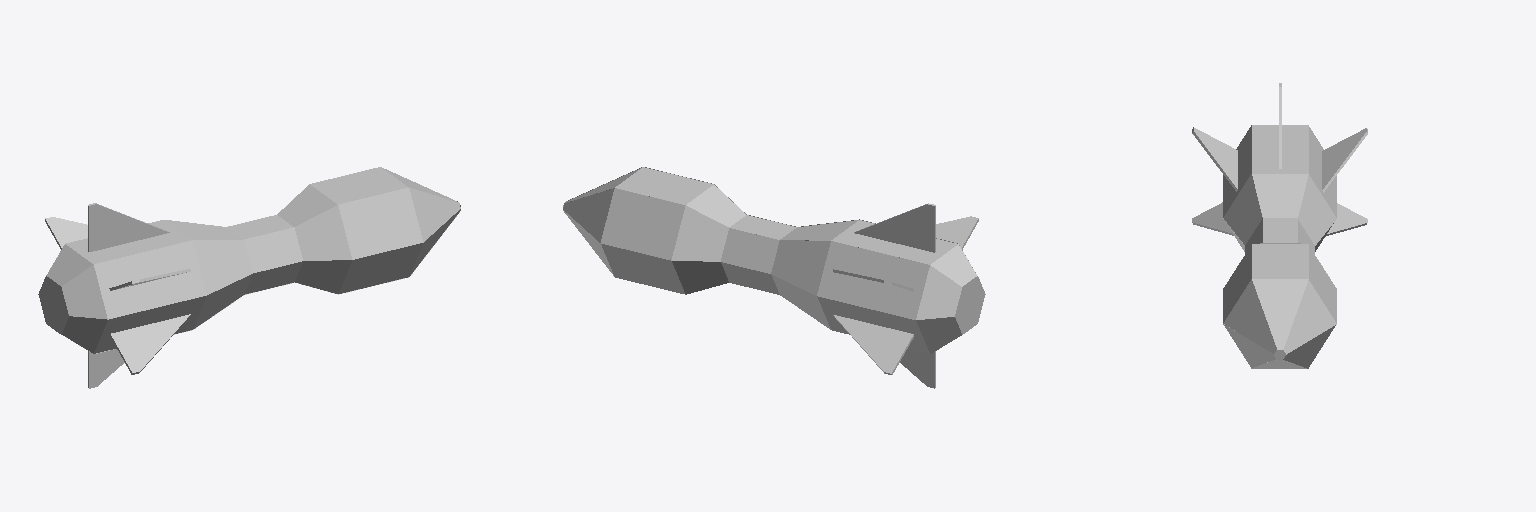
Rendered from missile.obj.
3 renders of one model, left to right at view 1: azimuth 30°, elevation 25°; view 2: azimuth 150°, elevation 25°; view 3: azimuth 270°, elevation 25°, orthographic.
Visible parts, largest first — view 1: Cylinder; view 2: Cylinder; view 3: Cylinder.
Part boxes in pixels (bbox=[...]): Cylinder: bbox=[38, 167, 460, 388]; Cylinder: bbox=[563, 167, 985, 388]; Cylinder: bbox=[1192, 83, 1367, 368].
Bounding box in the file's own units: 8.17 × 3.52 × 3.08.